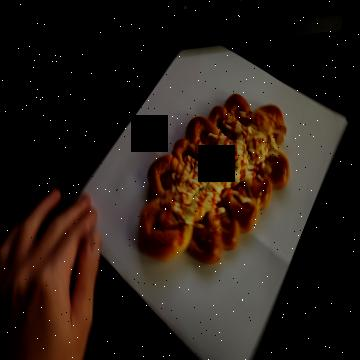pizza_bread: (139, 94, 291, 268)
